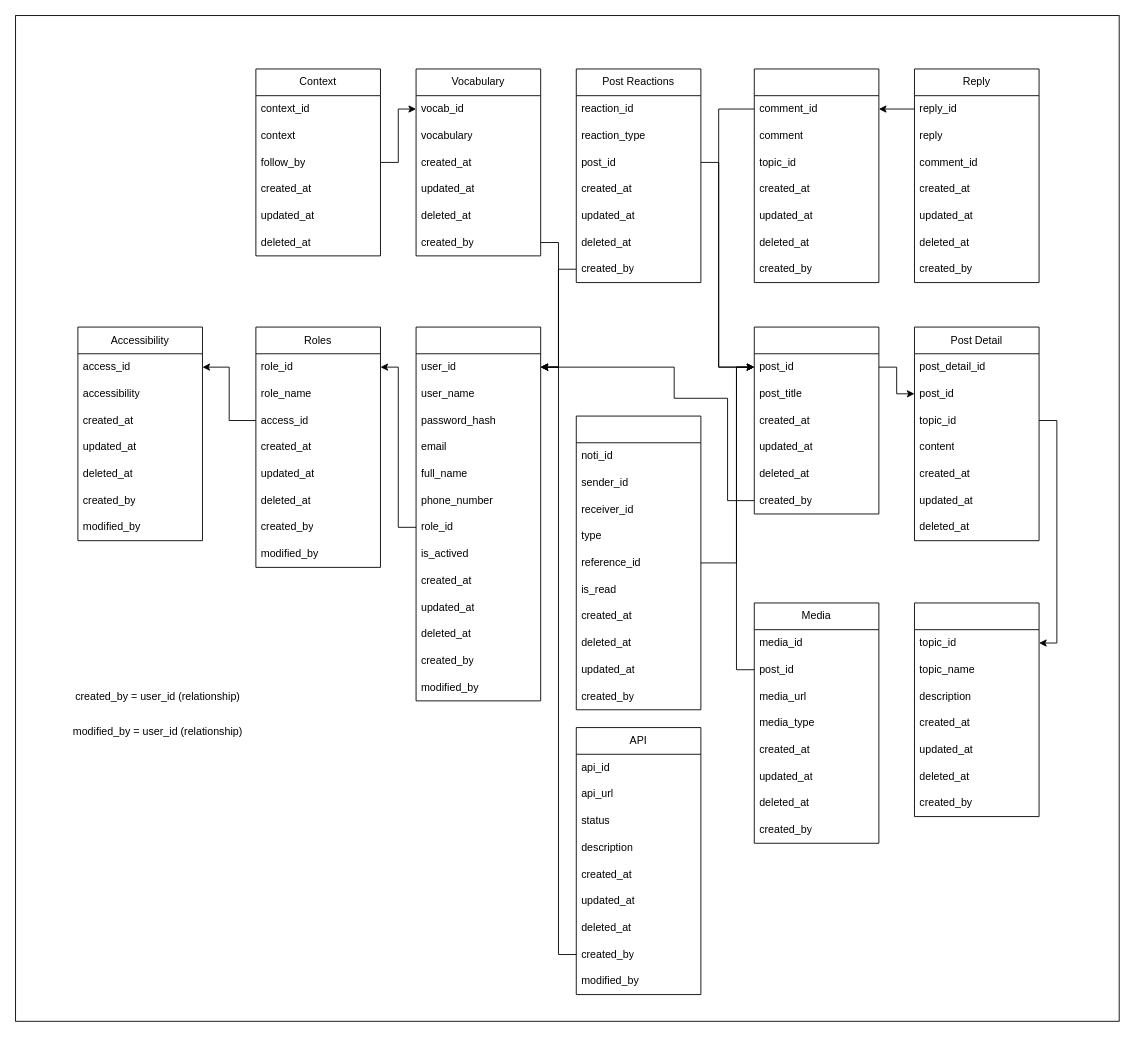
Some shapes in this 1135 by 1037 pixel diagram are drawn without their labels. Each missing label, with the box of its shape:
Comments: (753, 68, 879, 283)
Notifications: (575, 415, 701, 710)
Posts: (753, 326, 879, 514)
Topics: (914, 602, 1039, 817)
Users: (415, 326, 541, 701)
